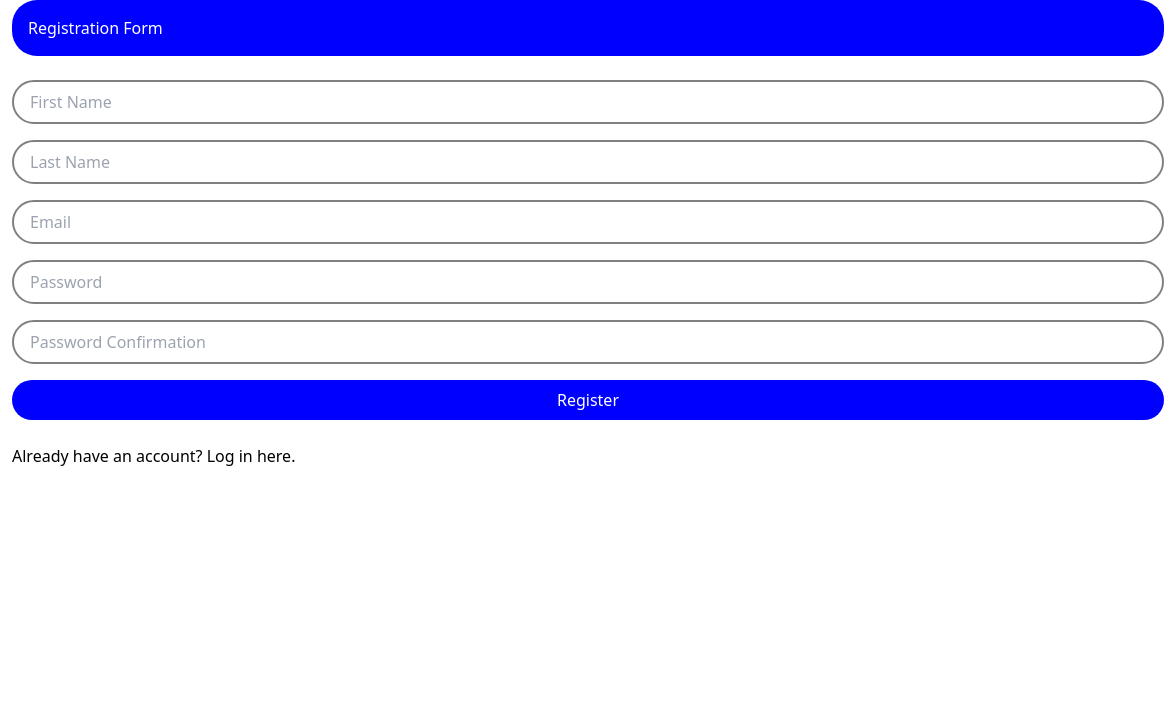
Test case: validation shows error messages for invalid inputs
This screenshot has width=1176, height=720.
// Attempt to submit the form with empty fields
Click the button "Register" at point(588, 400), box [12,380,1164,420]
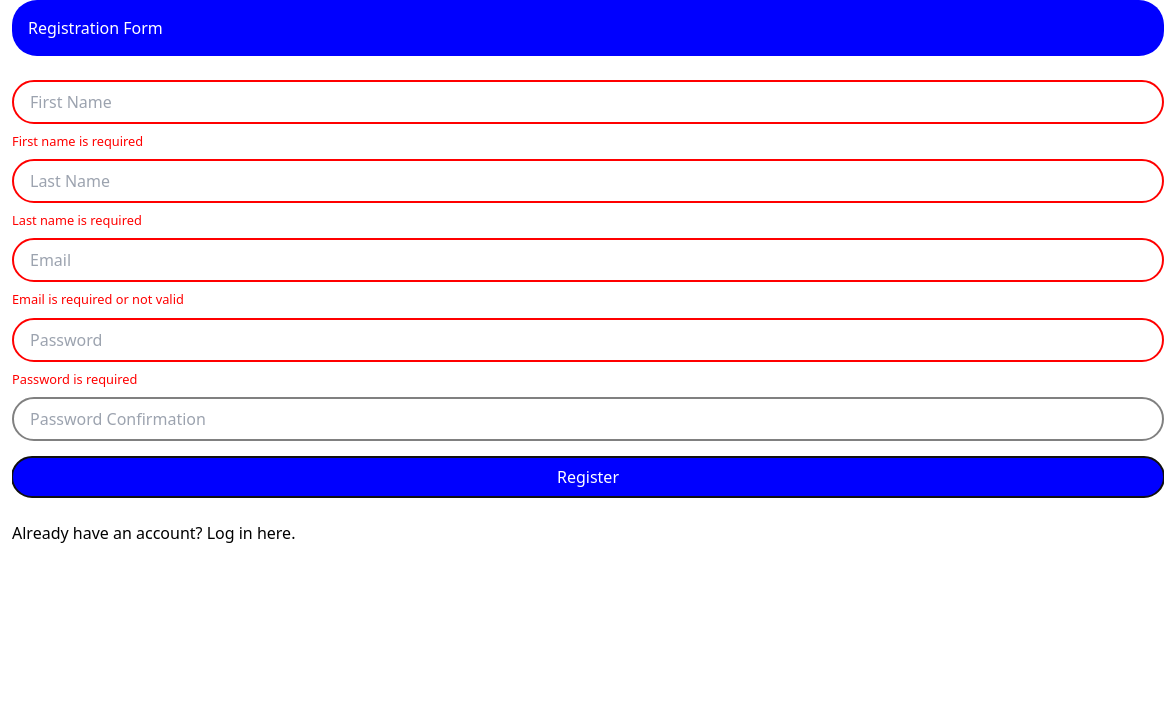
Check: the text "First name is required" is shown, box [12,132,143,150]
Check: the text "Last name is required" is shown, box [12,211,142,229]
Check: the text "Email is required or not valid" is shown, box [12,290,184,308]
